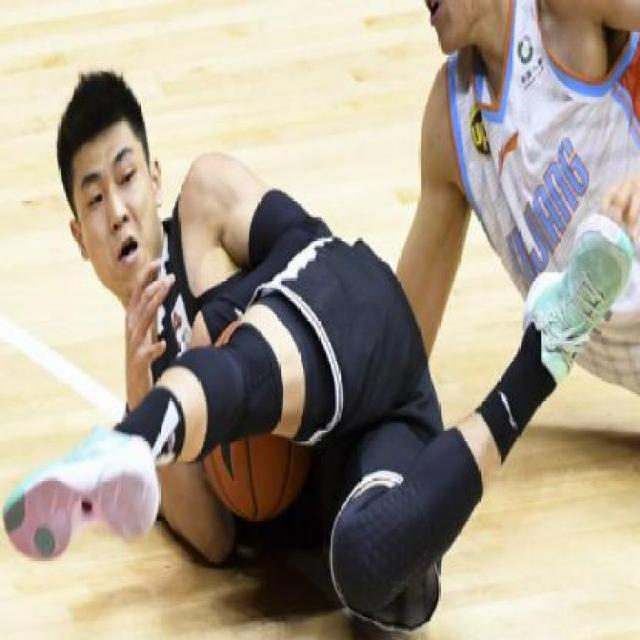fall: (34, 1, 614, 636)
